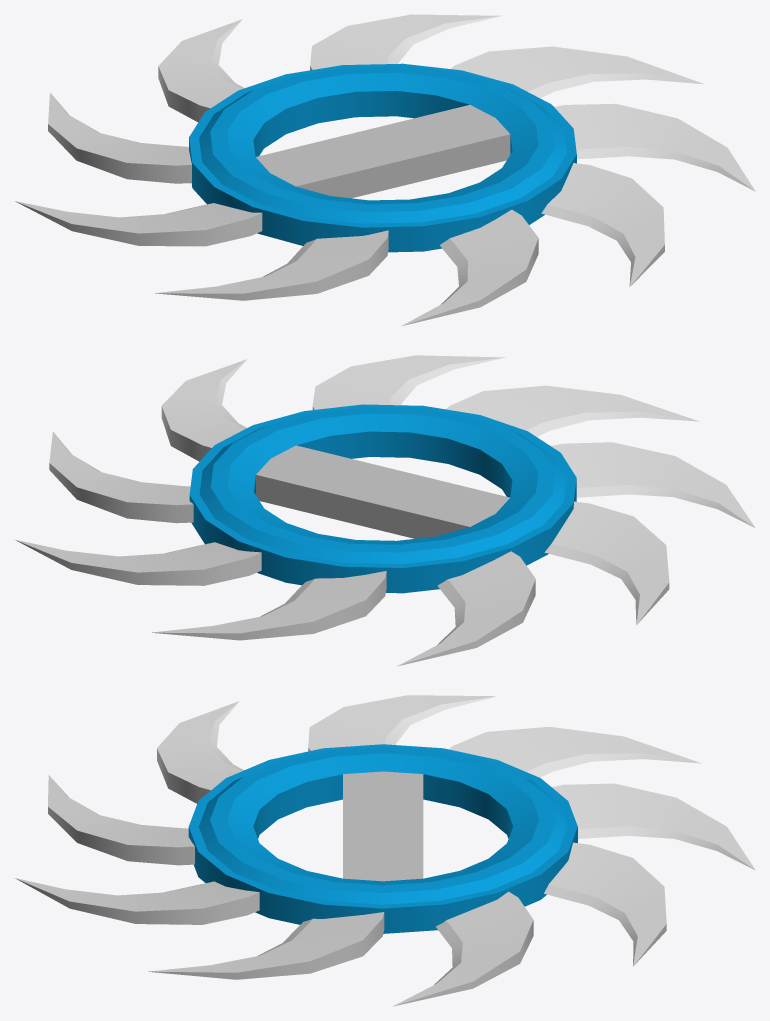
The model's file is Saw.fbx.
3 renders of one model, top to bottom at view 1: azimuth 30°, elevation 25°; view 2: azimuth 150°, elevation 25°; view 3: azimuth 270°, elevation 25°, orthographic.
Visible parts, largest first — view 1: Saw, Saw Circle; view 2: Saw, Saw Circle; view 3: Saw, Saw Circle.
Part boxes in pixels (x1,y1,x2,y2): Saw: (15, 14, 755, 326); Saw Circle: (189, 63, 576, 252); Saw: (15, 355, 755, 666); Saw Circle: (189, 404, 576, 593); Saw: (15, 695, 755, 1006); Saw Circle: (188, 744, 577, 933).
Size of the model in its own units: 0.7819 by 0.7894 by 0.0463.
